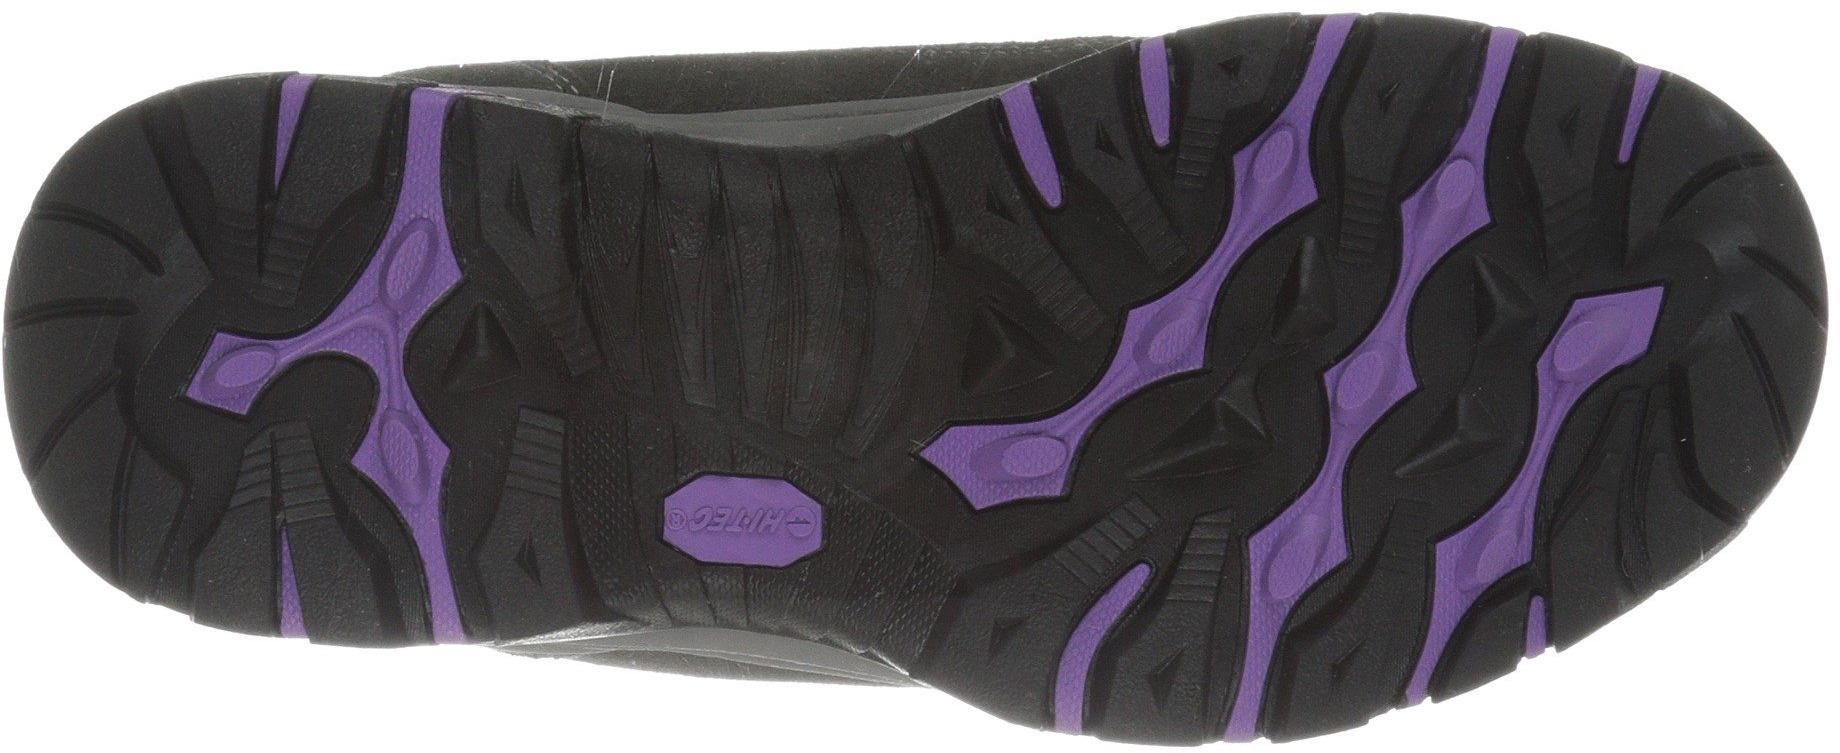text: (694, 487, 786, 559)
